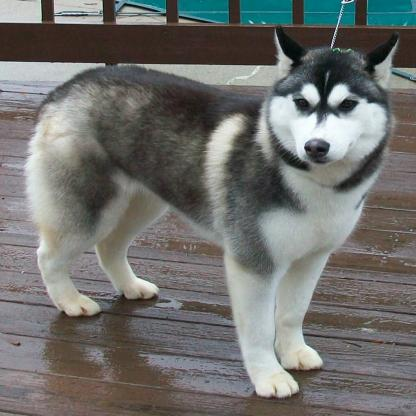husky: (22, 28, 401, 400)
